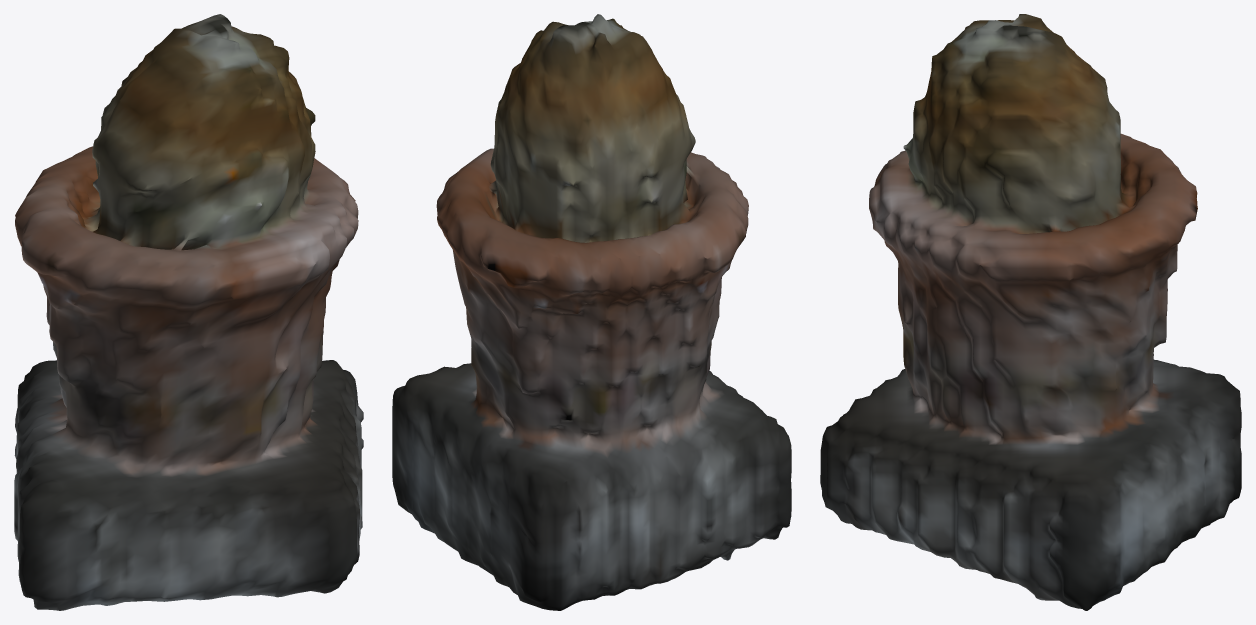
File: runtime-capture.glb
3 views of the same model, side by side, from view 1: azimuth 30°, elevation 25°; view 2: azimuth 150°, elevation 25°; view 3: azimuth 270°, elevation 25° (orthographic). The views are drawn at different scales.
Visible parts, largest first — view 1: runtime-capture; view 2: runtime-capture; view 3: runtime-capture.
Boxes of the visible parts, x1=… form: runtime-capture: x1=14, y1=14, x2=363, y2=610; runtime-capture: x1=392, y1=14, x2=791, y2=610; runtime-capture: x1=820, y1=14, x2=1241, y2=610.
Bounding box in the file's own units: 0.0738 × 0.1 × 0.0739.
